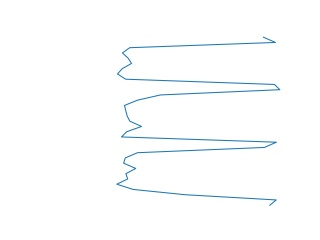majorRiverChannelBar: (115, 36, 283, 205)
